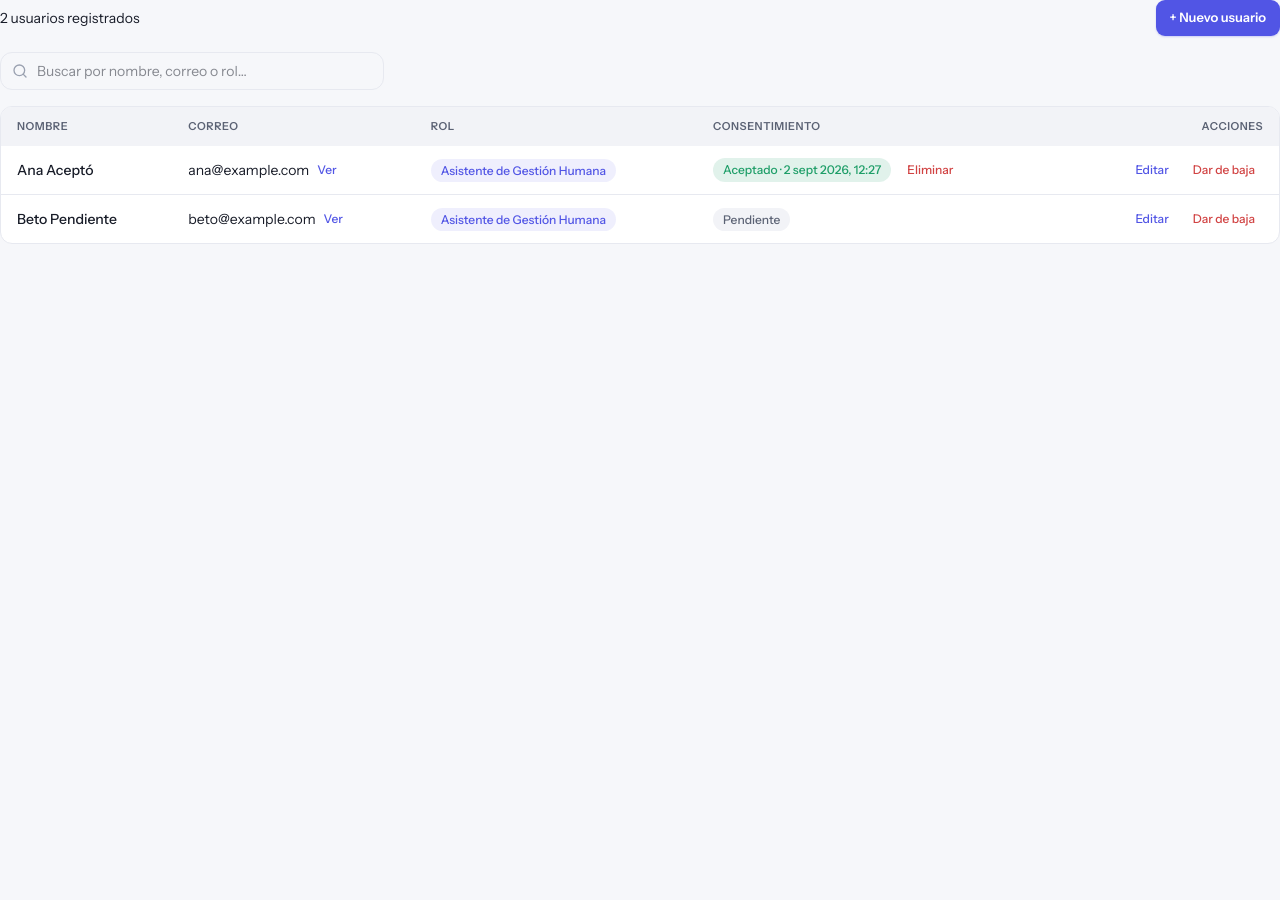
UsersManager — estado del usuario en la lista › el diálogo de baja explica que se puede revertir
The image size is (1280, 900).
Expected: the text "Ana Aceptó" is shown, [17,160,93,180]
Click the button "Dar de baja" in the row of "Ana Aceptó" at (1224, 170), box [1185,158,1263,182]
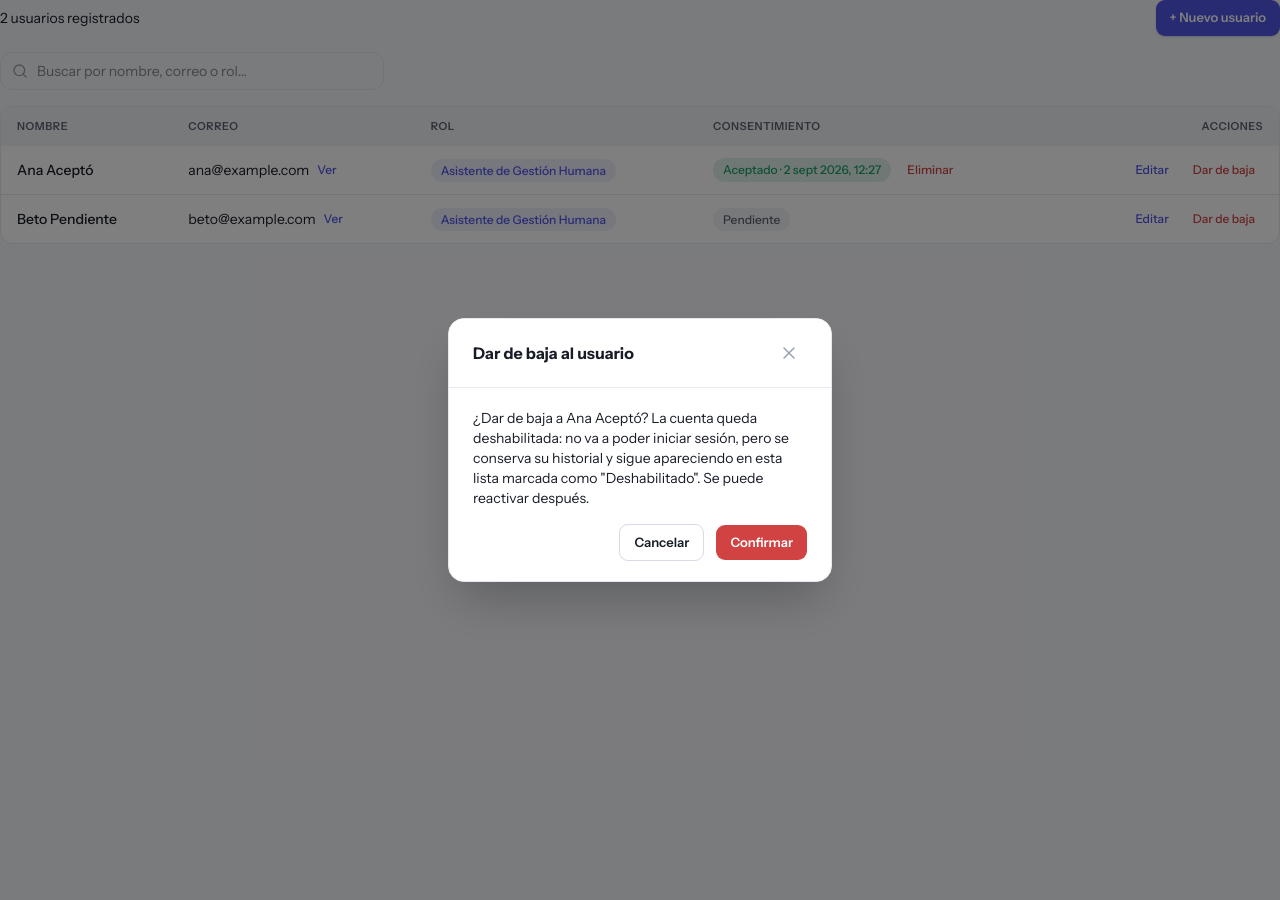
Now the text "queda deshabilitada" shows "se puede reactivar", box [473,409,789,507]
